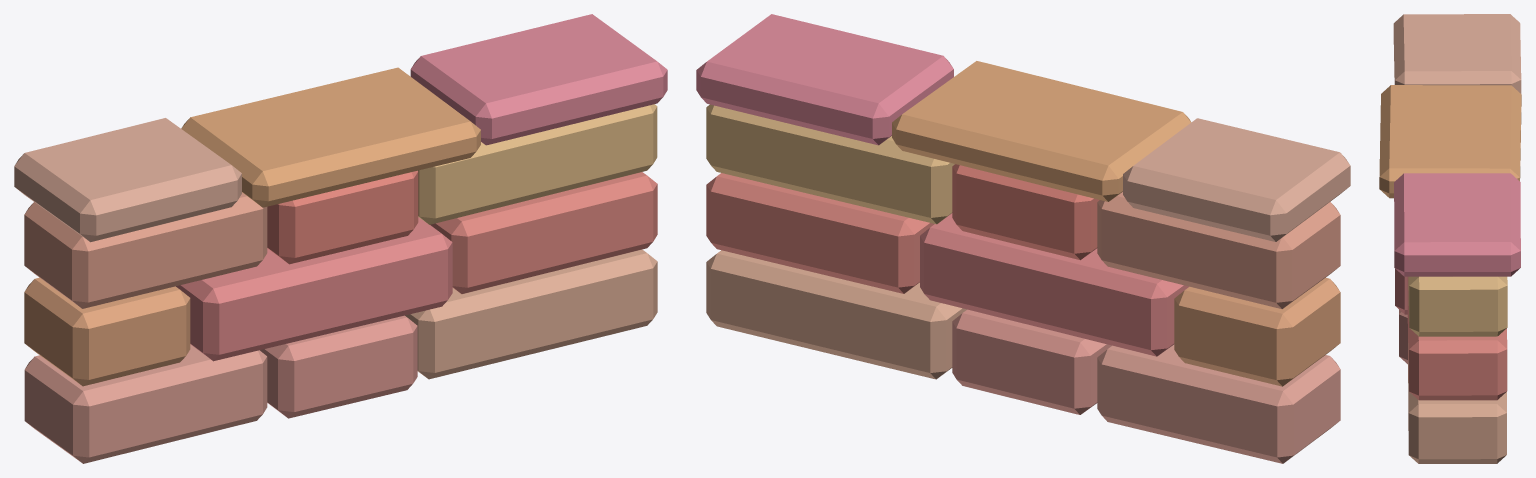
File: WC_RIVER_Bank_Straight_B.glb
3 views of the same model, side by side, from view 1: azimuth 30°, elevation 25°; view 2: azimuth 150°, elevation 25°; view 3: azimuth 270°, elevation 25° (orthographic). The views are drawn at different scales.
Parts seen in each view (by area): view 1: WC_RIVER_Bank_Straight_B_RenderMesh; view 2: WC_RIVER_Bank_Straight_B_RenderMesh; view 3: WC_RIVER_Bank_Straight_B_RenderMesh.
Part boxes in pixels (x1,y1,x2,y2): WC_RIVER_Bank_Straight_B_RenderMesh: (14, 14, 667, 463); WC_RIVER_Bank_Straight_B_RenderMesh: (696, 14, 1350, 463); WC_RIVER_Bank_Straight_B_RenderMesh: (1379, 14, 1521, 463).
Size of the model in its own units: 1.99 by 0.8735 by 0.5055.
